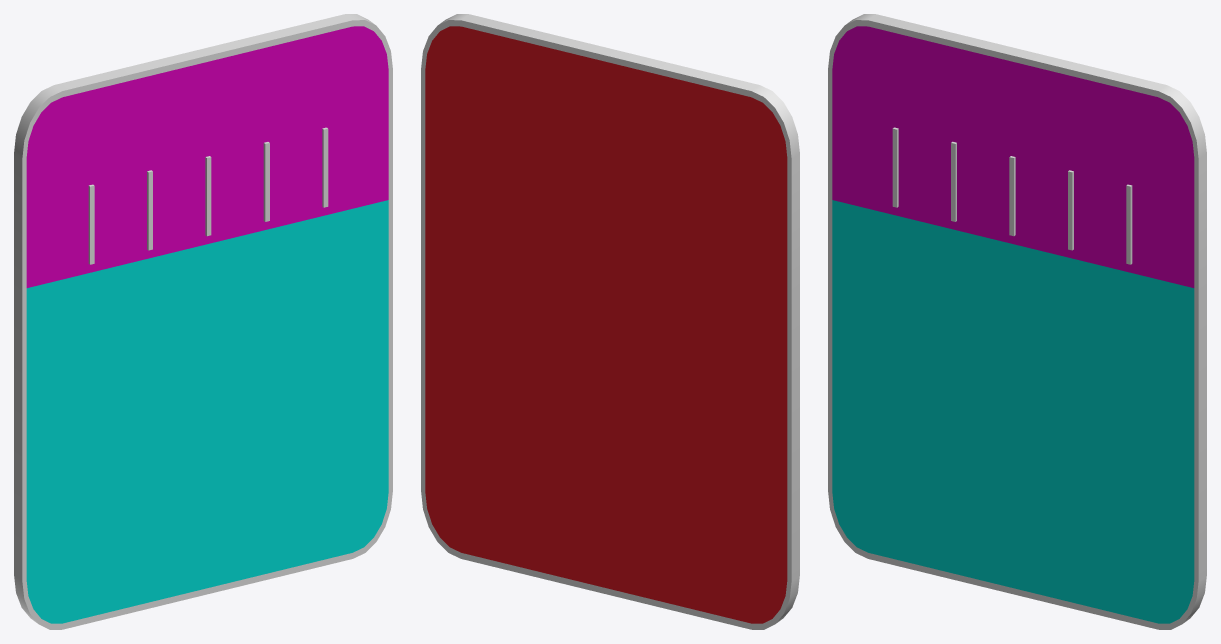
Rendered from Player_card_Layout_no_X.fbx.
The picture shows the model from 3 angles, left to right: view 1: azimuth 30°, elevation 25°; view 2: azimuth 150°, elevation 25°; view 3: azimuth 330°, elevation 25°; orthographic projection.
Parts seen in each view (by area): view 1: Cube; view 2: Cube; view 3: Cube.
Boxes of the visible parts, <box> form: Cube: <box>14,14,392,629</box>; Cube: <box>421,14,799,629</box>; Cube: <box>828,14,1206,629</box>.
Bounding box in the file's own units: 360 × 500 × 16.64.
